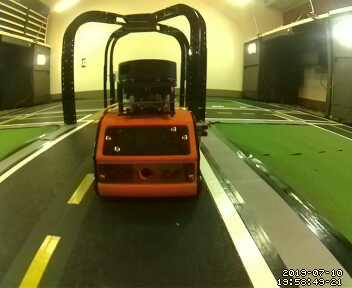pheeno: (94, 59, 204, 202)
